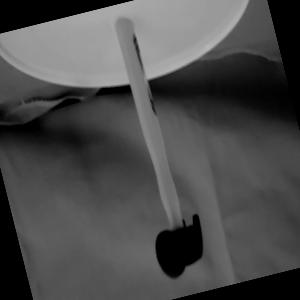martelo: (98, 10, 212, 280)
